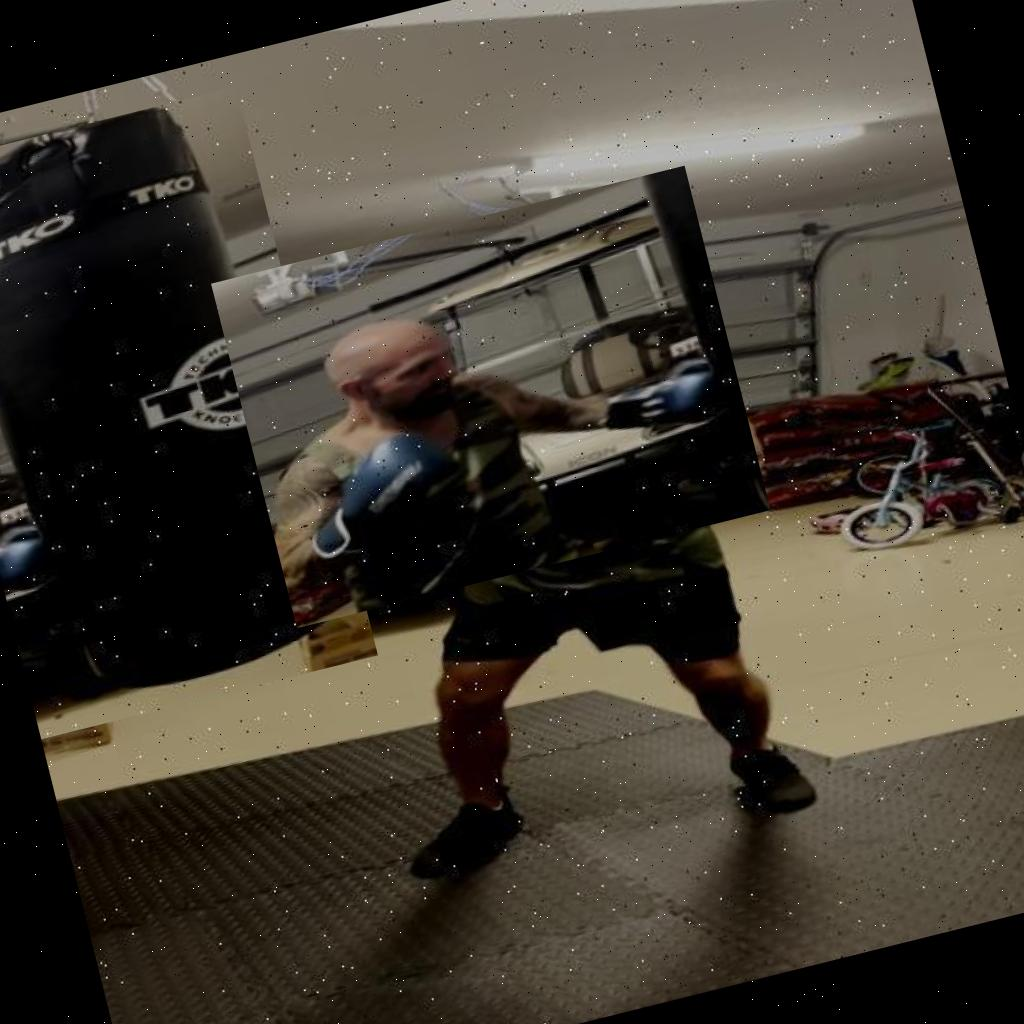bag: (0, 86, 377, 739)
hook: (211, 165, 770, 628)
